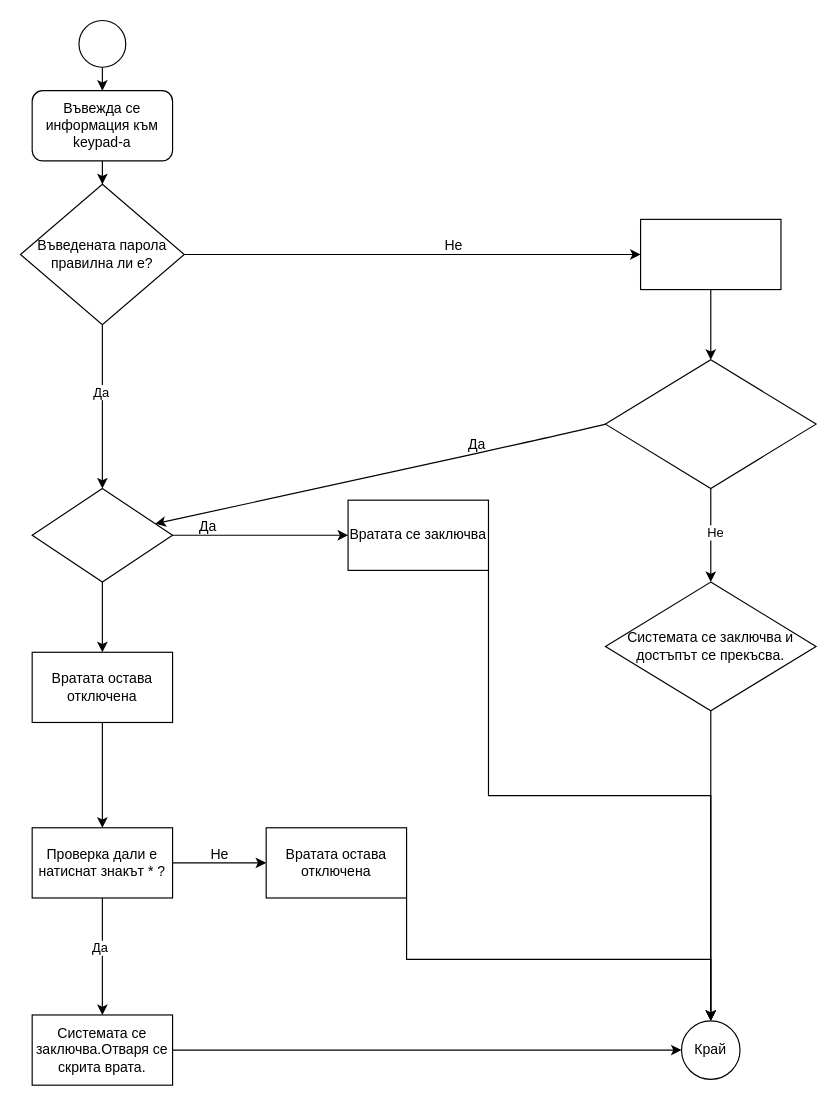
Some shapes in this 837 by 1106 pixel diagram are drawn without their labels. Here are the shapes that lost their labels. From the top down, the centre of each, then its label:
(x=102, y=43): Старт
(x=710, y=254): Въведете отново.Остават 2 опита
(x=710, y=423): Има ли правилно въведена парола?
(x=102, y=534): Натиснат ли е бутонът #?
